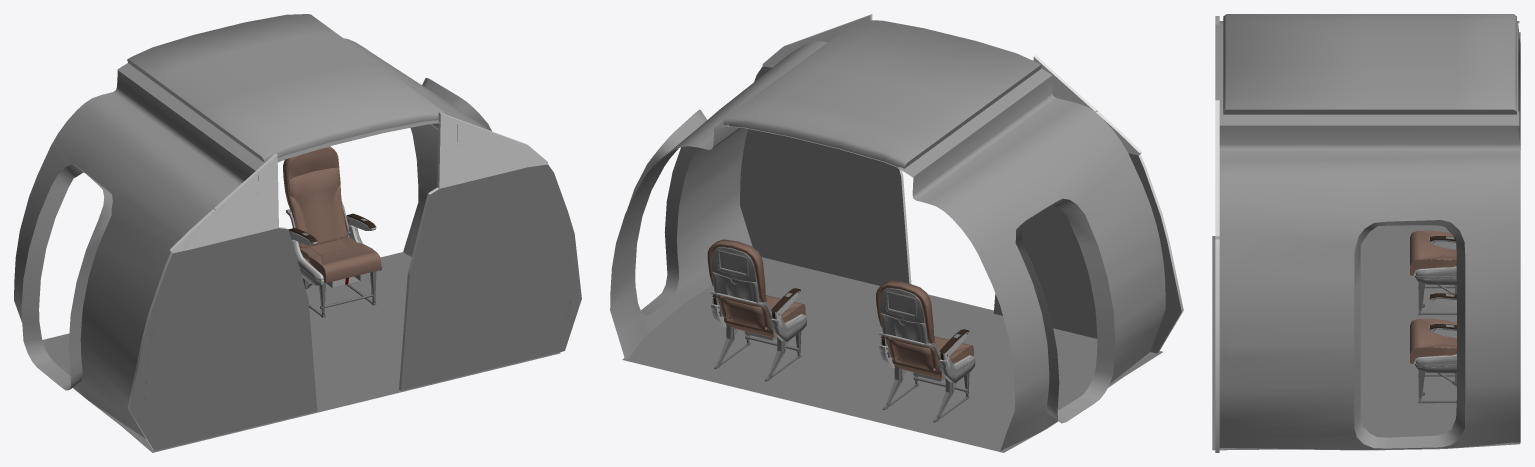
File: Modulo Porta Interno Frente.FBX
3 views of the same model, side by side, from view 1: azimuth 30°, elevation 25°; view 2: azimuth 150°, elevation 25°; view 3: azimuth 270°, elevation 25° (orthographic). The views are drawn at different scales.
Visible parts, largest first — view 1: Divisoria, Interior_Portas, Chao_Porta, Cadeira_LOW063; view 2: Interior_Portas, Chao_Porta, Divisoria, Cadeira_LOW063, Cadeira_LOW062; view 3: Interior_Portas, Chao_Porta, Cadeira_LOW063, Cadeira_LOW062, Divisoria.
Boxes of the visible parts, left/top/right/bottom form: Divisoria: left=127, top=112, right=581, bottom=450; Interior_Portas: left=14, top=14, right=570, bottom=438; Chao_Porta: left=42, top=252, right=560, bottom=452; Cadeira_LOW063: left=283, top=146, right=382, bottom=317; Interior_Portas: left=610, top=20, right=1165, bottom=451; Chao_Porta: left=622, top=257, right=1162, bottom=452; Divisoria: left=740, top=14, right=1183, bottom=353; Cadeira_LOW063: left=707, top=239, right=807, bottom=381; Cadeira_LOW062: left=876, top=280, right=975, bottom=422; Interior_Portas: left=1215, top=14, right=1520, bottom=450; Chao_Porta: left=1212, top=236, right=1520, bottom=450; Cadeira_LOW063: left=1410, top=293, right=1456, bottom=403; Cadeira_LOW062: left=1410, top=230, right=1456, bottom=315; Divisoria: left=1215, top=16, right=1219, bottom=452.
Size of the model in its own units: 3923 by 2240 by 2147.
